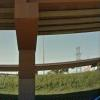Bridge: (4, 4, 98, 43)
